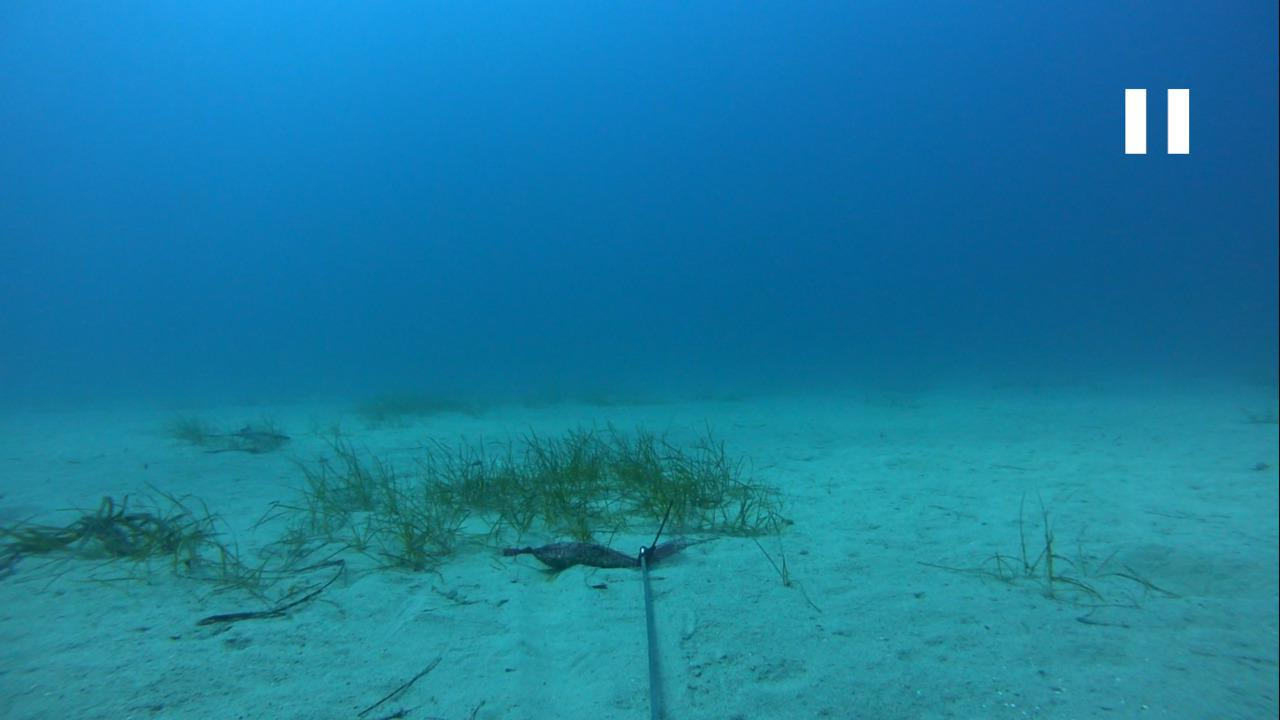dactylopterus: (221, 421, 284, 448)
